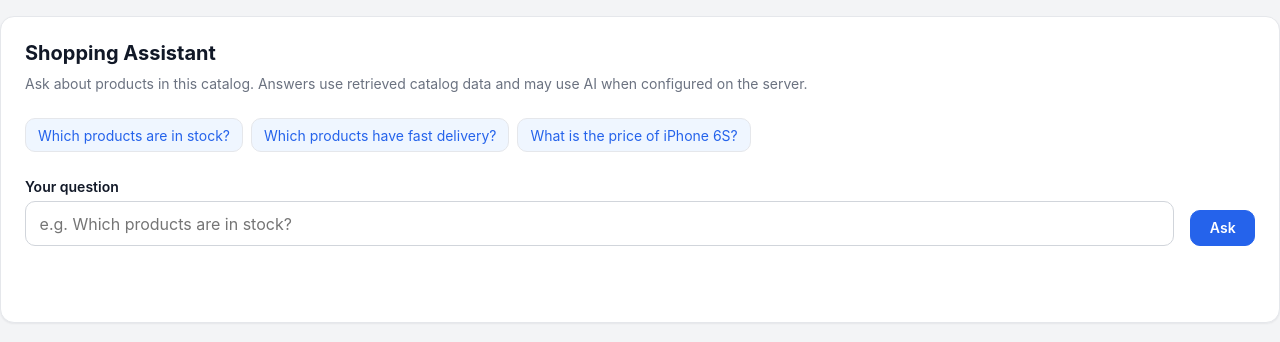
Scenario: ShoppingAssistant › handles API errors
Type "Which products are in stock?" into the field labelled "Your question".
click(600, 224); type("Which products are in stock?")  # box [25,201,1174,246]
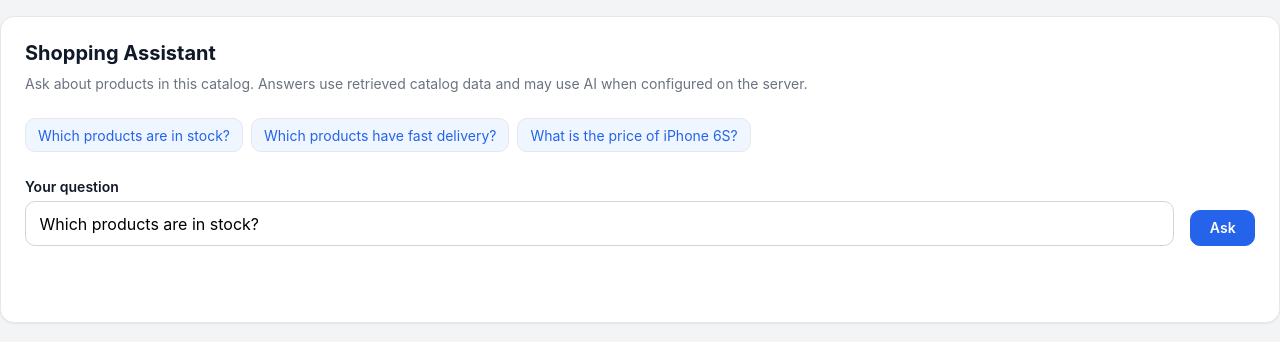
Click the button "Ask".
click(1223, 228)  # box [1190,210,1255,246]
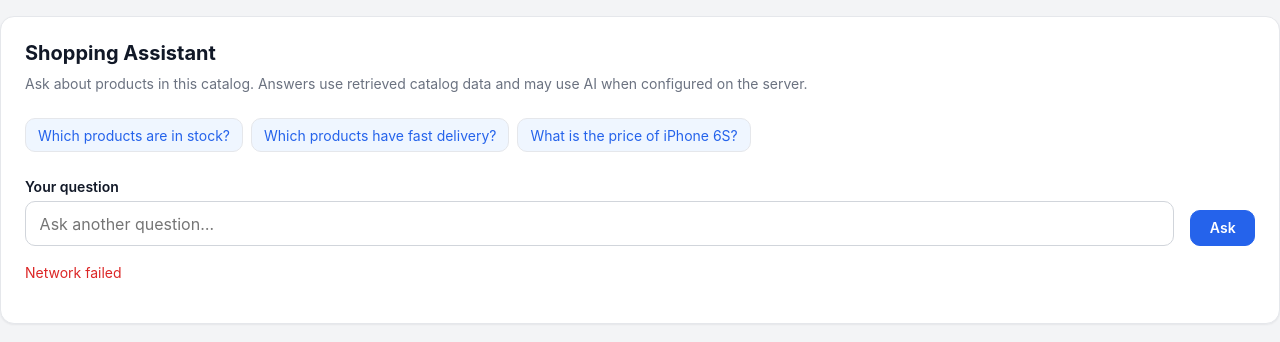
Check: the text "Network failed" is shown, box [25,264,122,281]
